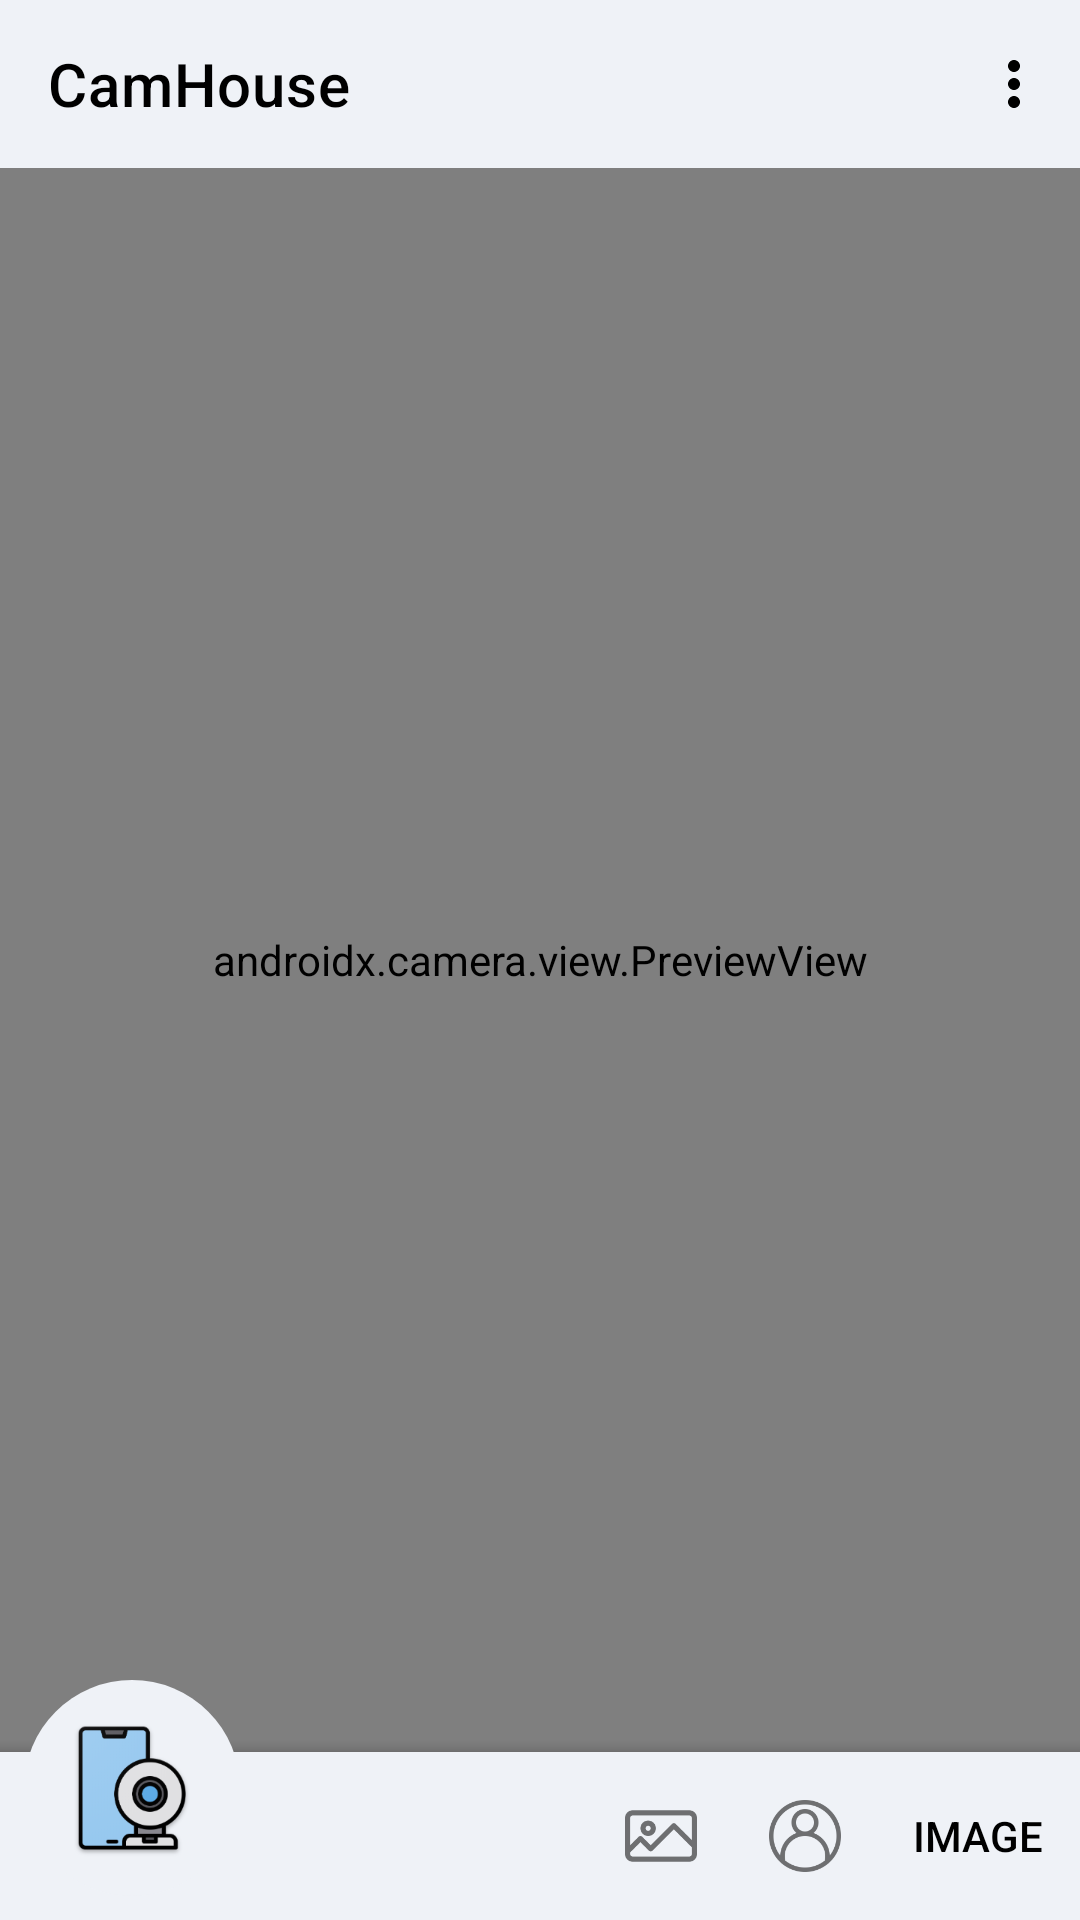

Screen size 1080px x 1920px. Icon name, then its center in pixels as point (x, y):
cam security: point (132, 1788)
